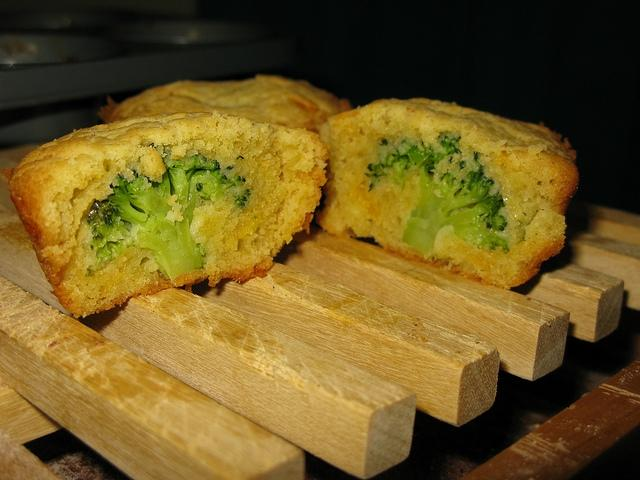broccoli: (86, 143, 251, 280), (364, 135, 509, 253)
